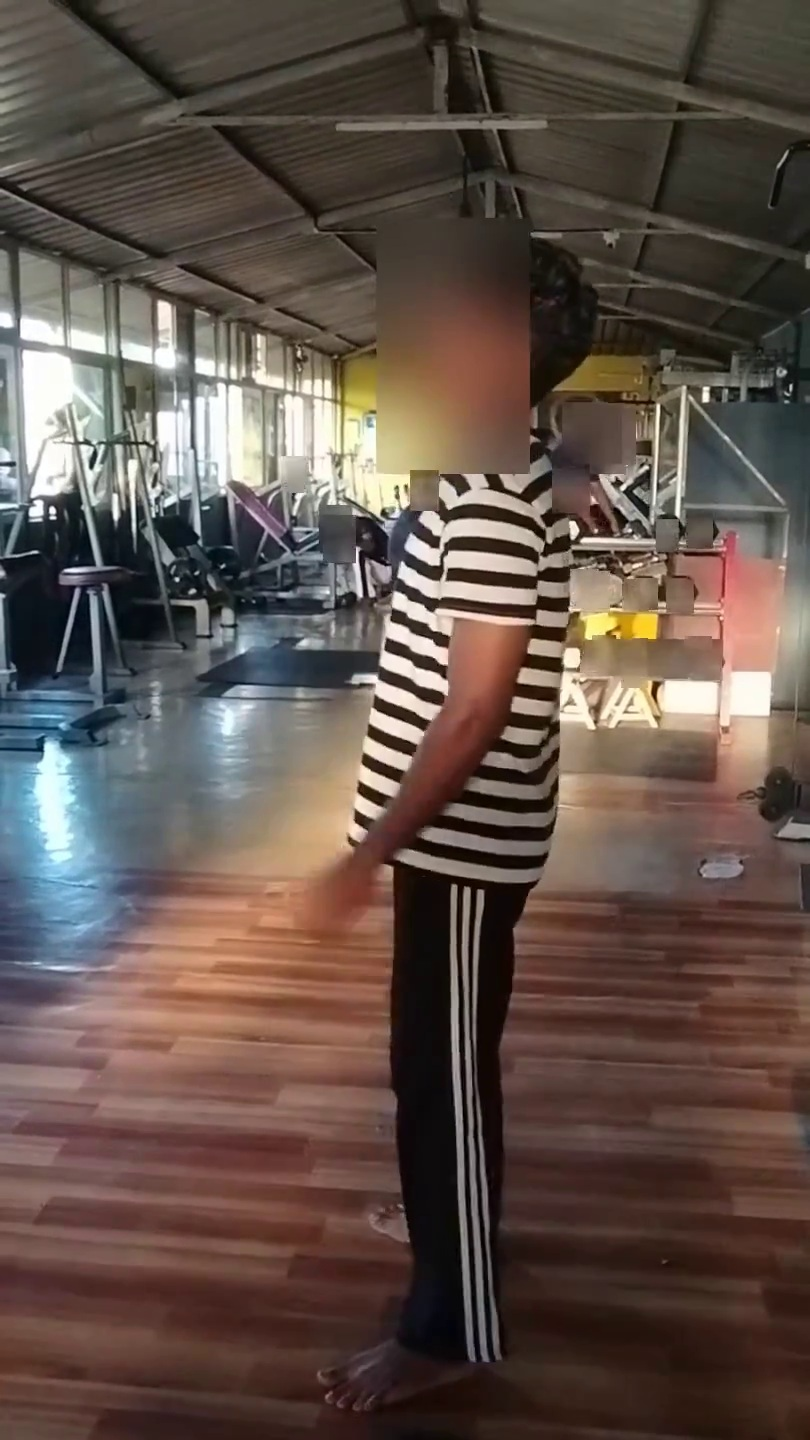squat: (265, 400, 636, 1311)
